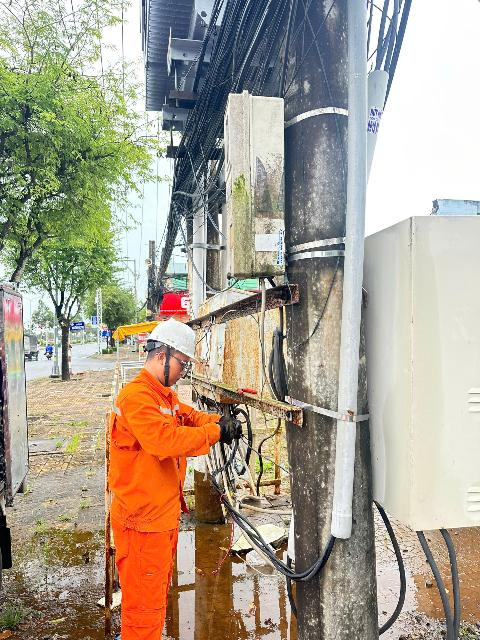gloves: (211, 419, 258, 446), (219, 413, 253, 429)
helmet: (121, 316, 218, 368)
